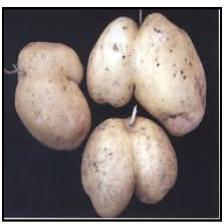Damaged potato: (86, 6, 206, 134), (81, 110, 183, 218), (10, 34, 96, 151)
